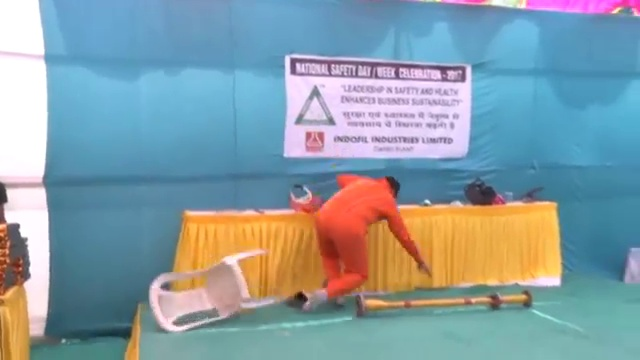helmet_off: (384, 173, 403, 201)
person: (300, 172, 433, 315)
